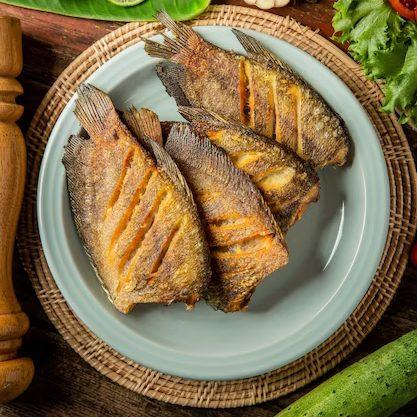daging: (82, 147, 161, 279), (202, 171, 270, 273), (233, 56, 282, 119)
